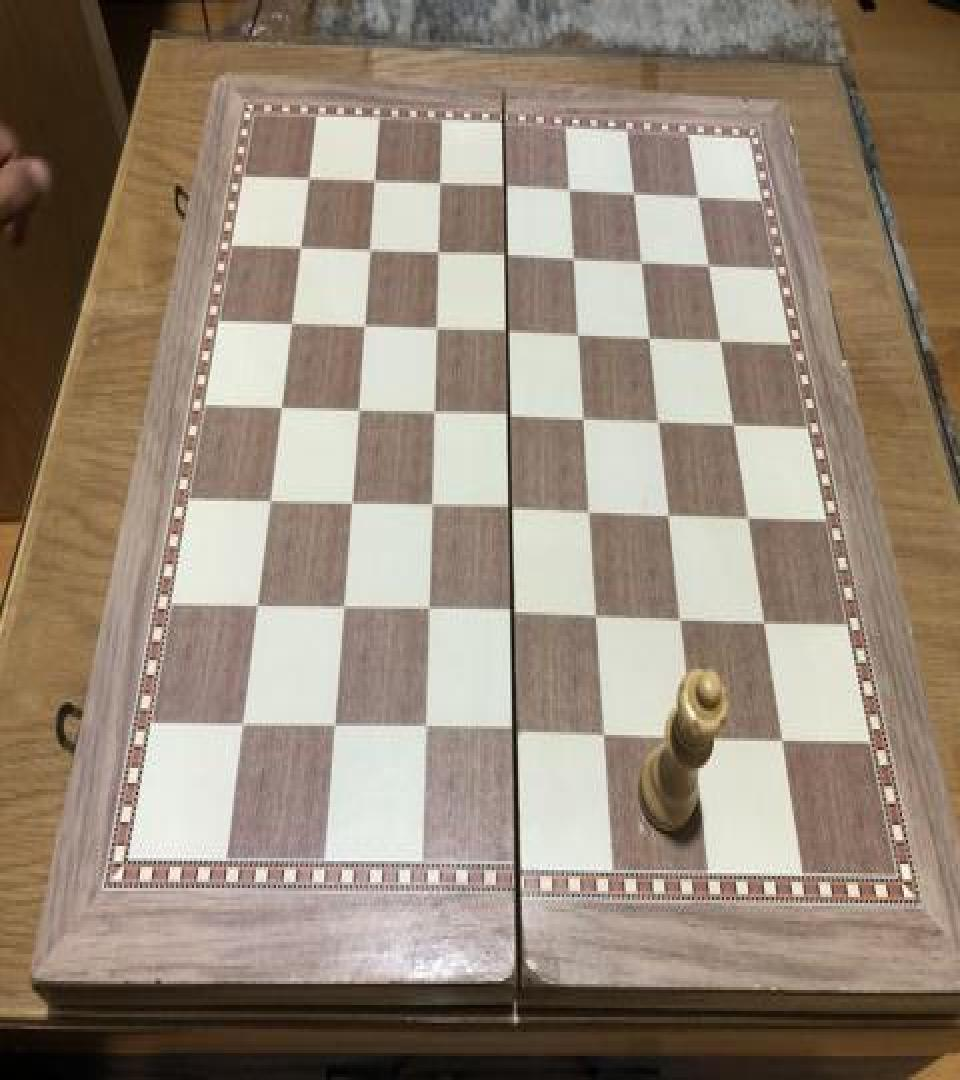xcorner: (586, 601, 610, 638), (773, 727, 797, 764), (688, 177, 712, 213), (623, 174, 647, 210), (558, 171, 582, 207), (493, 166, 517, 202), (427, 164, 451, 200), (361, 160, 385, 196), (295, 156, 319, 192), (699, 248, 723, 284), (631, 243, 655, 279), (563, 240, 587, 276), (494, 237, 518, 273), (425, 232, 449, 268), (356, 230, 380, 266), (287, 226, 311, 262), (710, 324, 734, 360), (639, 320, 663, 356), (568, 316, 592, 352), (496, 314, 520, 350), (423, 309, 447, 345), (351, 306, 375, 342), (278, 302, 302, 338), (724, 408, 748, 444), (649, 405, 673, 441), (573, 402, 597, 438), (497, 398, 521, 434), (421, 394, 445, 430), (345, 390, 369, 426), (268, 387, 292, 423), (738, 502, 762, 538), (659, 500, 683, 536), (579, 495, 603, 531), (499, 492, 523, 528), (419, 489, 443, 525), (338, 484, 362, 520), (257, 482, 281, 518), (755, 609, 779, 645), (671, 604, 695, 640), (501, 598, 525, 634), (416, 594, 440, 630), (330, 591, 354, 627), (244, 588, 268, 624), (684, 724, 708, 760), (594, 720, 618, 756), (504, 717, 528, 753), (413, 714, 437, 750), (321, 711, 345, 747), (230, 706, 254, 742)
